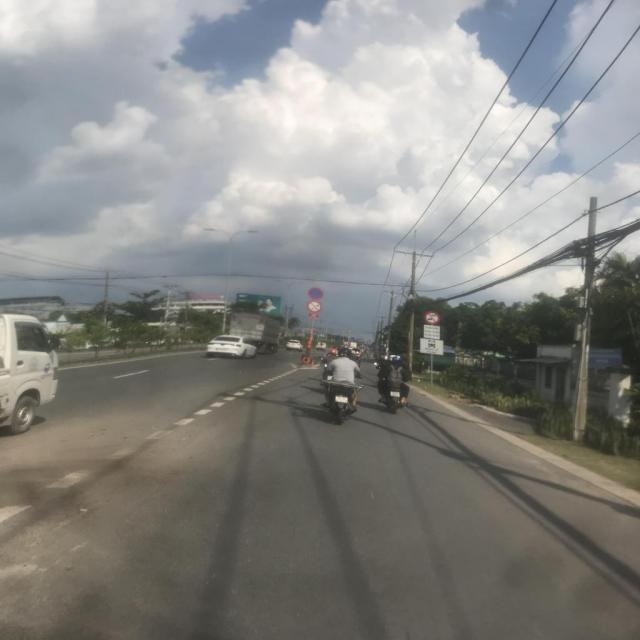cam_dung_xe_va_do_xe: (308, 288, 324, 300)
cam_o_to_tai_va_xe_khach: (424, 311, 440, 325)
cam_xe_2_banh_va_xe_3_banh_co_dong_co: (306, 301, 323, 313)
khac: (420, 338, 444, 356), (424, 324, 441, 340)
